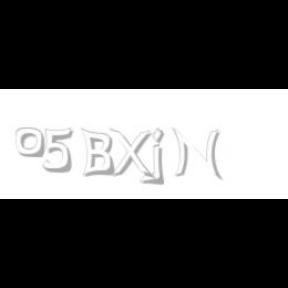5: (42, 128, 74, 174)
B: (80, 128, 114, 178)
N: (172, 128, 220, 180)
X: (109, 128, 153, 180)
j: (150, 128, 178, 186)
o: (16, 128, 44, 158)
